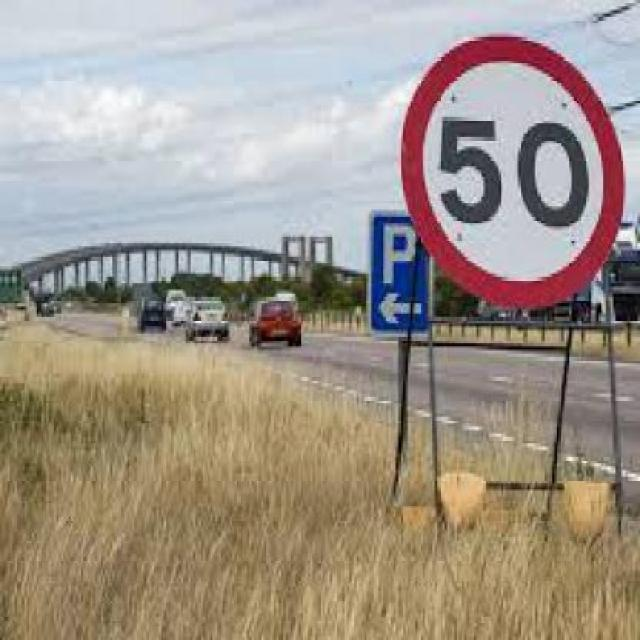forb_speed_over_50: (410, 36, 616, 307)
